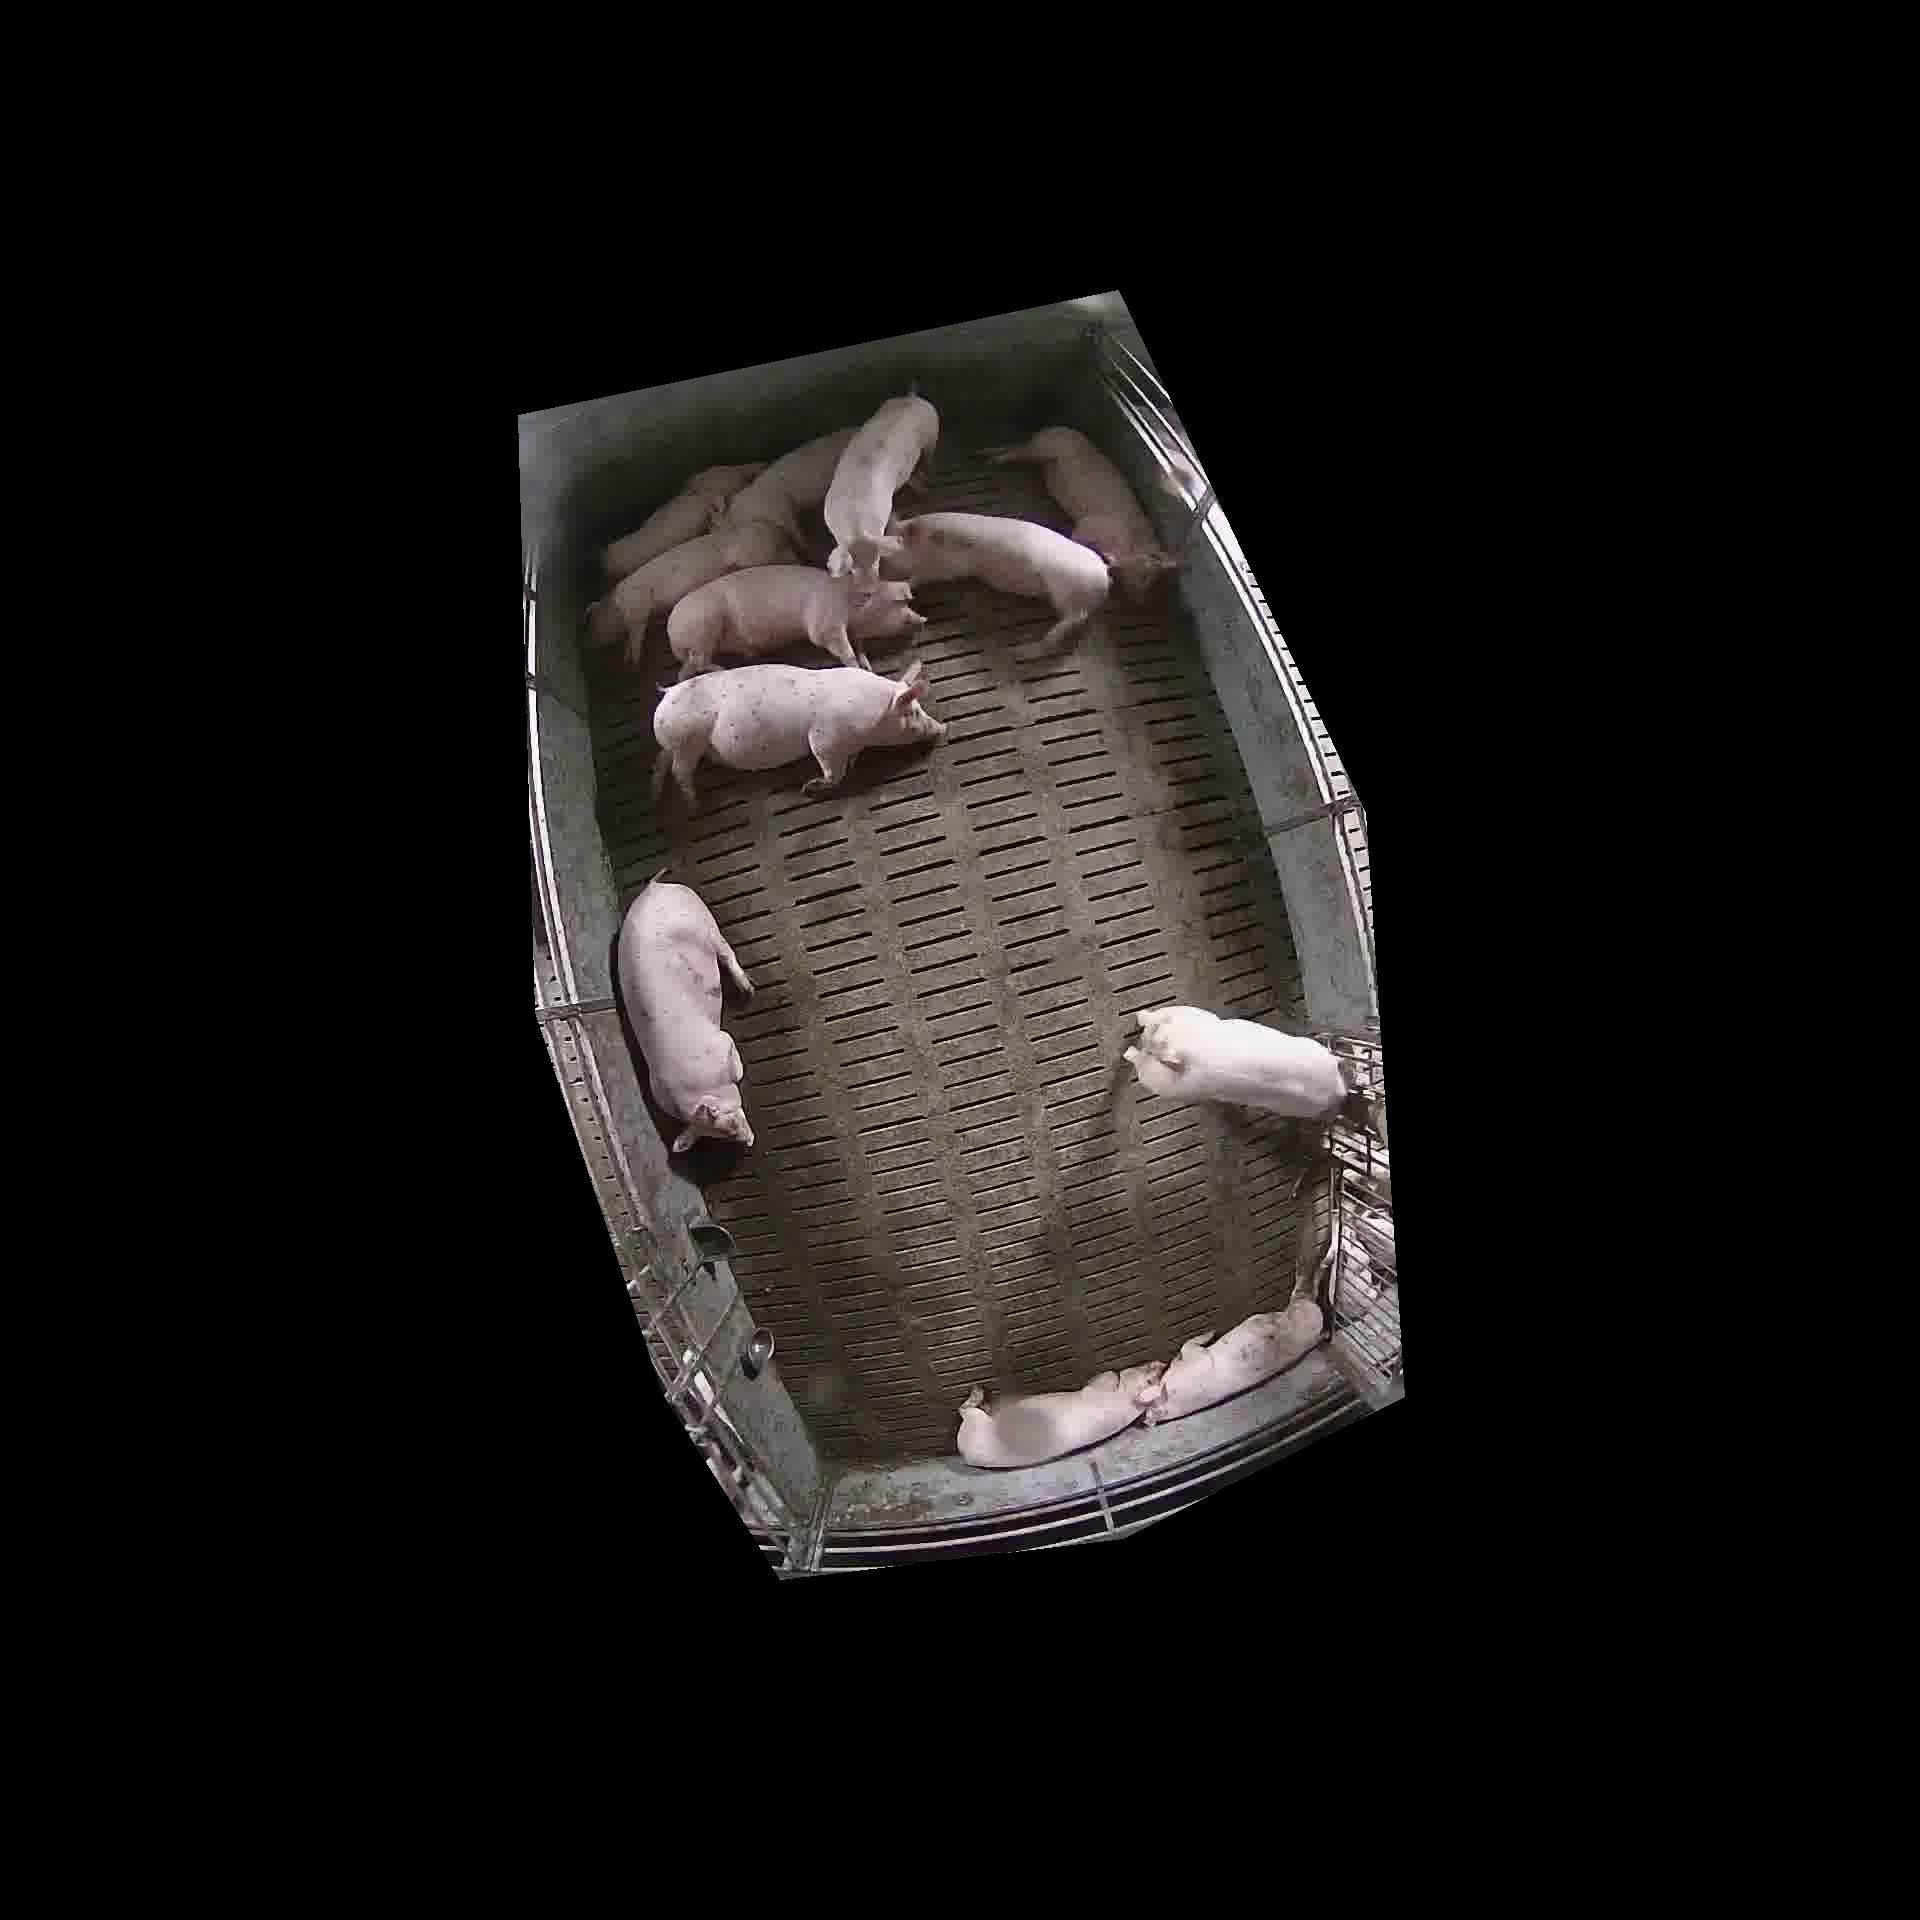pig: (652, 663, 944, 805), (617, 879, 753, 1152), (985, 425, 1173, 601), (879, 512, 1109, 651), (587, 520, 796, 665), (666, 564, 918, 679), (1125, 1006, 1347, 1118), (1145, 1298, 1324, 1422), (956, 1363, 1162, 1466), (823, 394, 937, 578), (601, 462, 765, 580), (716, 427, 849, 549), (862, 661, 865, 663)
